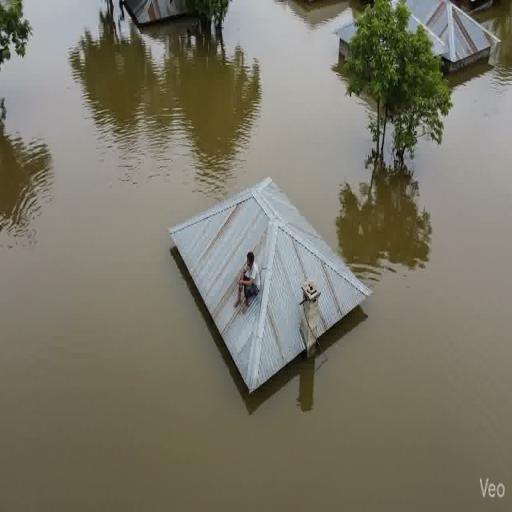human: (235, 245, 265, 313)
